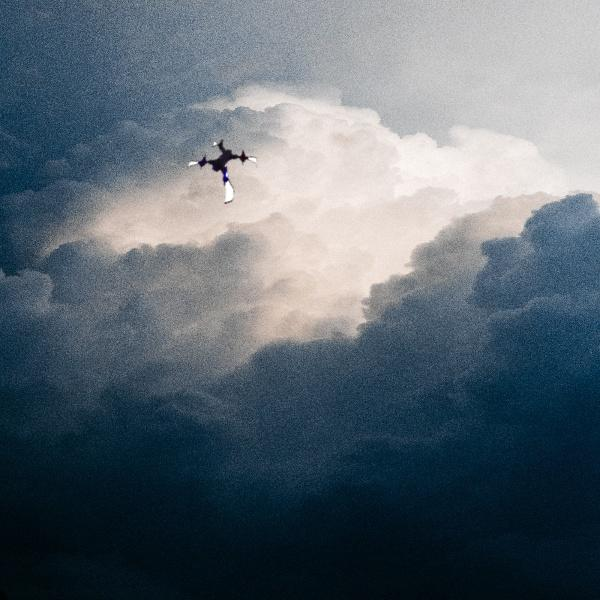drone: (184, 137, 259, 212)
